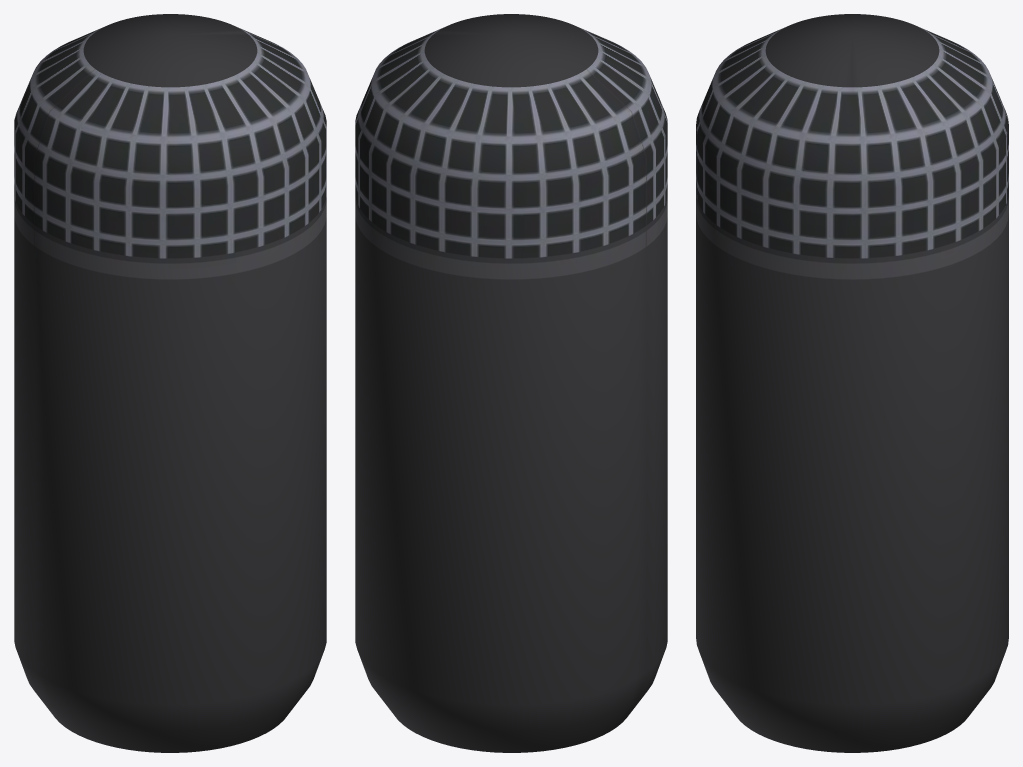
File: dpa-4060.glb
The picture shows the model from 3 angles, left to right: view 1: azimuth 30°, elevation 25°; view 2: azimuth 150°, elevation 25°; view 3: azimuth 270°, elevation 25°; orthographic projection.
Visible parts, largest first — view 1: dpa-4060-body; view 2: dpa-4060-body; view 3: dpa-4060-body.
Boxes of the visible parts, box(x1,y1,x2,y2) form: dpa-4060-body: box(14, 14, 326, 752); dpa-4060-body: box(355, 14, 667, 752); dpa-4060-body: box(696, 14, 1008, 752).
Bounding box in the file's own units: 0.0054 × 0.0127 × 0.0054.
1 material, 1 textured.
